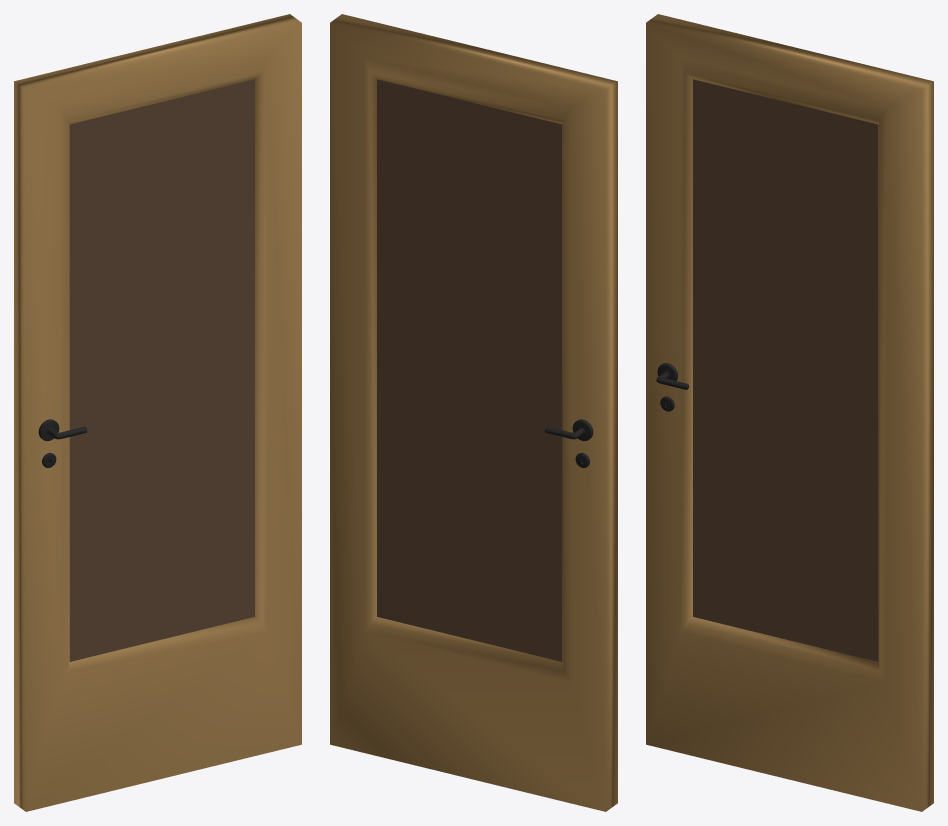
3 renders of one model, left to right at view 1: azimuth 30°, elevation 25°; view 2: azimuth 150°, elevation 25°; view 3: azimuth 330°, elevation 25°, orthographic.
Parts seen in each view (by area): view 1: Door.009; view 2: Door.009; view 3: Door.009.
Part boxes in pixels (x1,y1,x2,y2): Door.009: [14, 14, 301, 811]; Door.009: [330, 14, 617, 811]; Door.009: [646, 14, 933, 811].
Size of what is drawn, in the model's own units: 0.8628 by 2.16 by 0.1816.
Materials: 3 (3 with a texture image).
